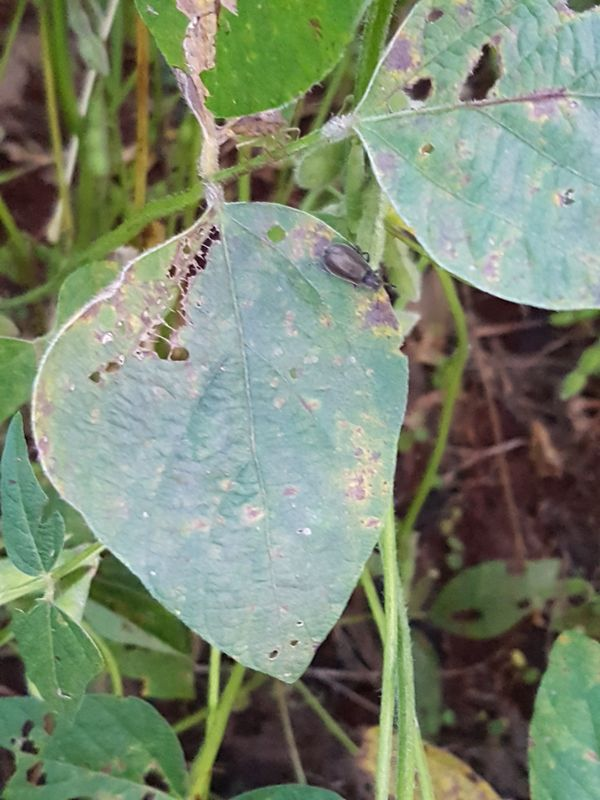Euschistus_heros_adulto: (224, 104, 307, 162)
Lagria_villosa: (310, 230, 402, 307)
